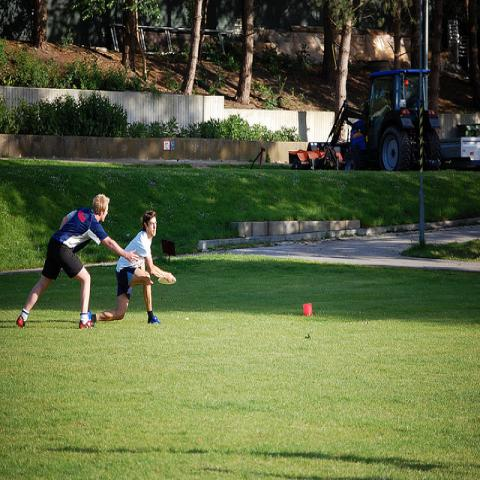truck: (287, 68, 445, 173), (440, 122, 480, 166)
